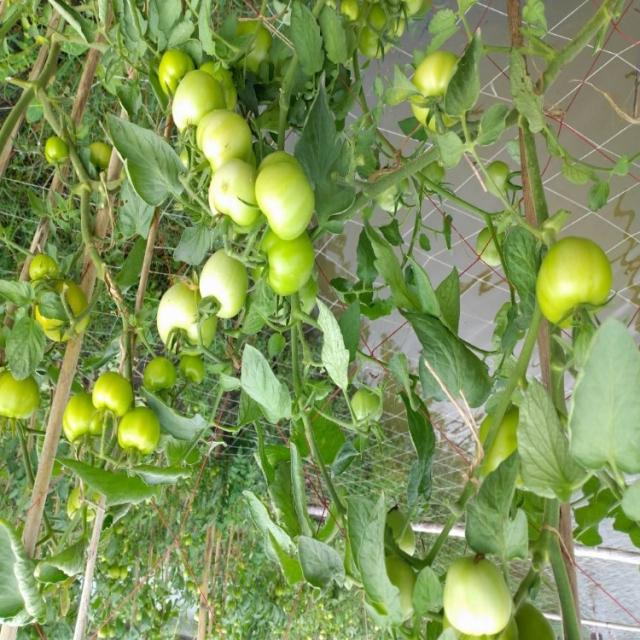tomato: (512, 229, 628, 327), (417, 547, 525, 640), (395, 49, 475, 136), (144, 65, 232, 133), (153, 285, 227, 362), (242, 217, 315, 283), (194, 256, 269, 319), (189, 166, 267, 226), (192, 109, 262, 172), (251, 159, 308, 235), (110, 410, 164, 477), (339, 376, 394, 437), (54, 400, 100, 452), (92, 380, 144, 420), (153, 39, 193, 88), (15, 248, 64, 284), (145, 360, 191, 397), (88, 140, 123, 187), (1, 371, 39, 408), (39, 138, 76, 172)
